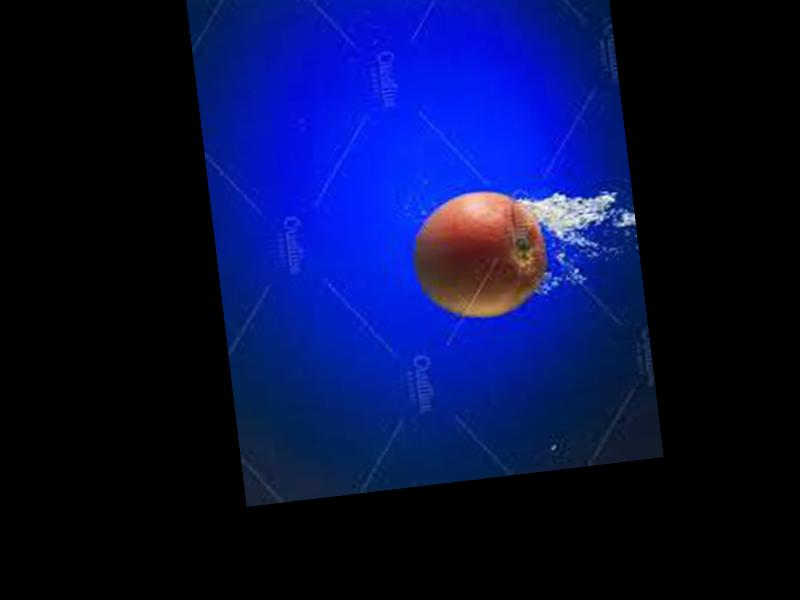Tomato: (410, 185, 553, 325)
